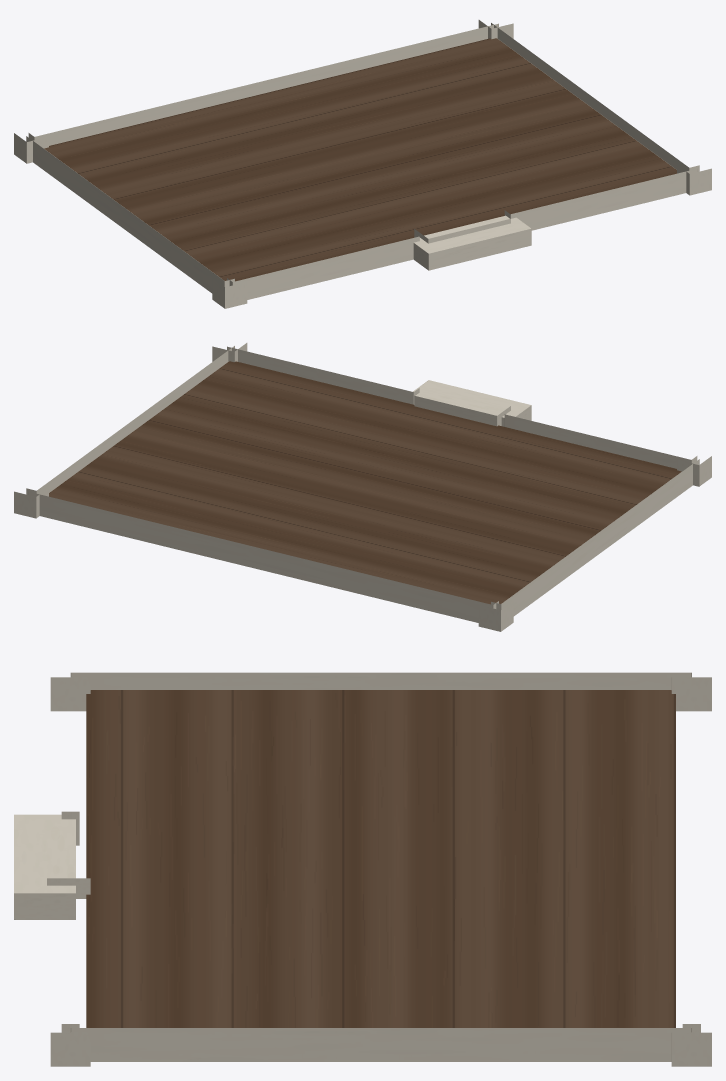
Rendered from Building7Stage1.glb.
The picture shows the model from 3 angles, top to bottom: view 1: azimuth 30°, elevation 25°; view 2: azimuth 150°, elevation 25°; view 3: azimuth 270°, elevation 25°; orthographic projection. The views are drawn at different scales.
Parts seen in each view (by area): view 1: building7_stage1; view 2: building7_stage1; view 3: building7_stage1.
Boxes of the visible parts, x1,y1,x2,y2 form: building7_stage1: (14,20,711,308); building7_stage1: (14,343,711,631); building7_stage1: (14,672,711,1066).
Bounding box in the file's own units: 11.09 × 0.471 × 8.79.
Materials: 1 (1 with a texture image).
